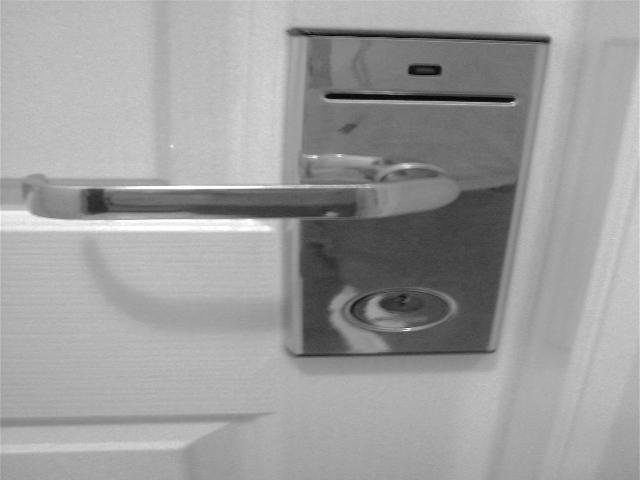Door-handle: (21, 33, 549, 355)
